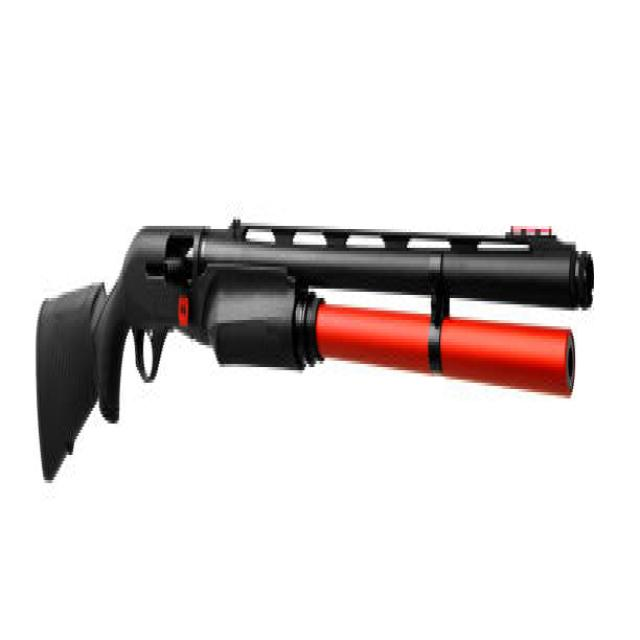rifle: (31, 195, 602, 509)
